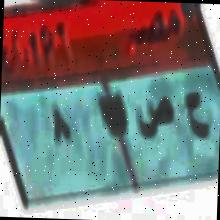7aa: (181, 84, 211, 152)
